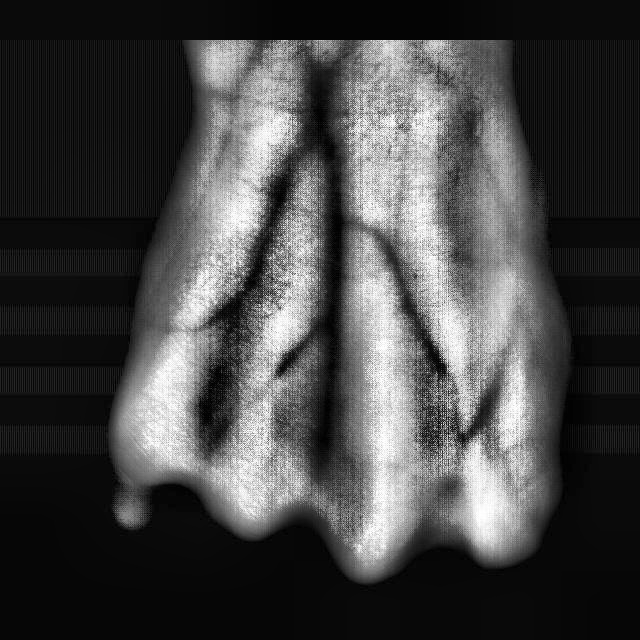Vein: (322, 220, 348, 400)
